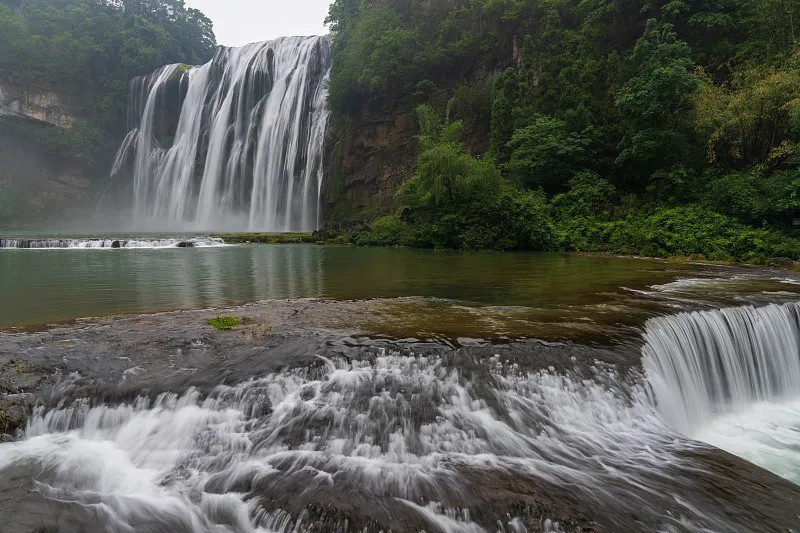Huangguoshu: (106, 36, 329, 234)
